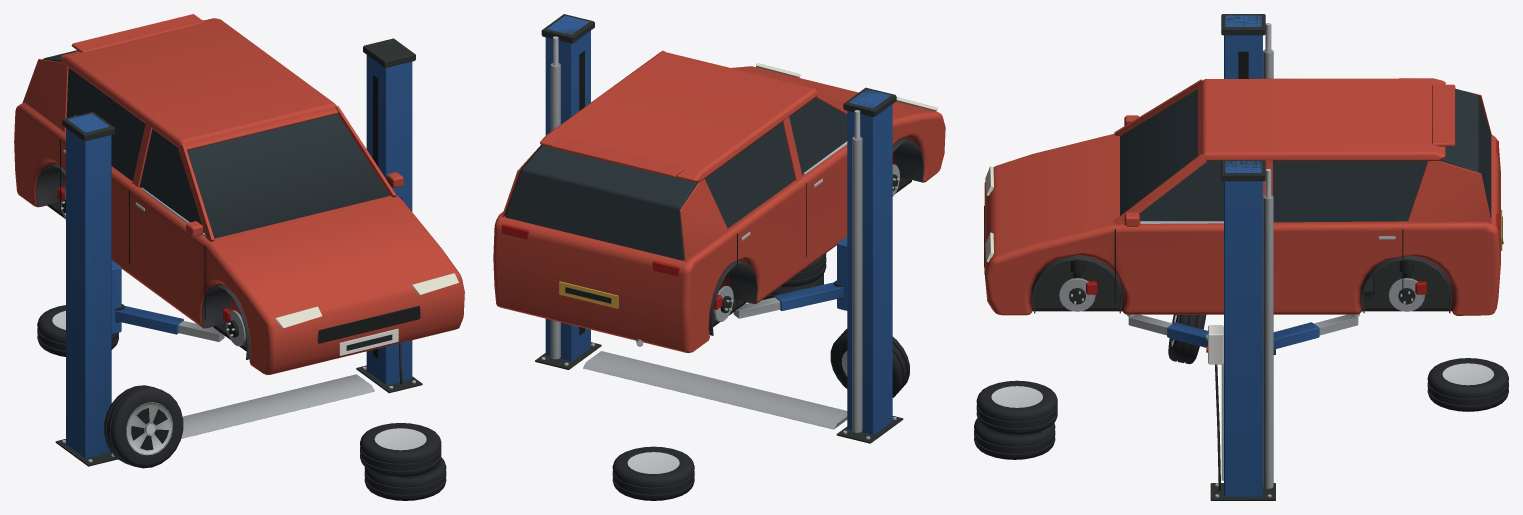
File: carLift.glb
3 renders of one model, left to right at view 1: azimuth 30°, elevation 25°; view 2: azimuth 150°, elevation 25°; view 3: azimuth 270°, elevation 25°, orthographic.
Parts seen in each view (by area): view 1: carLift; view 2: carLift; view 3: carLift.
Boxes of the visible parts, x1,y1,x2,y2 form: carLift: (14, 14, 464, 500); carLift: (493, 14, 945, 500); carLift: (974, 14, 1508, 500).
Size of the model in its own units: 2.94 by 2.76 by 4.09.
